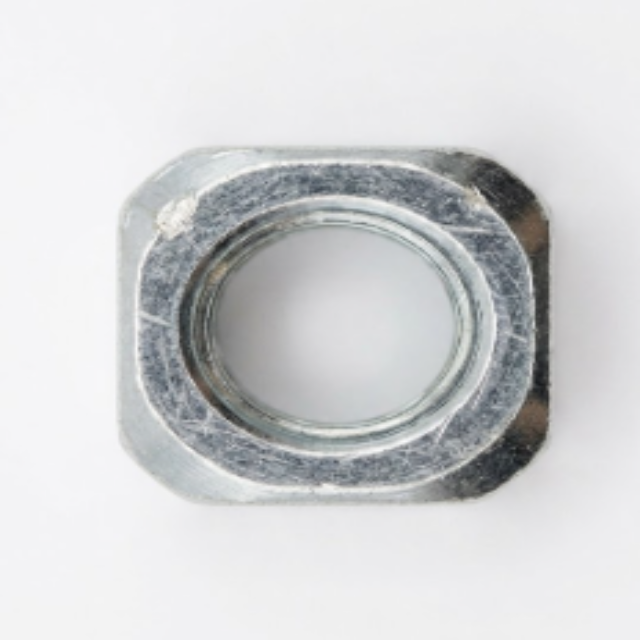defect: (148, 196, 206, 237)
